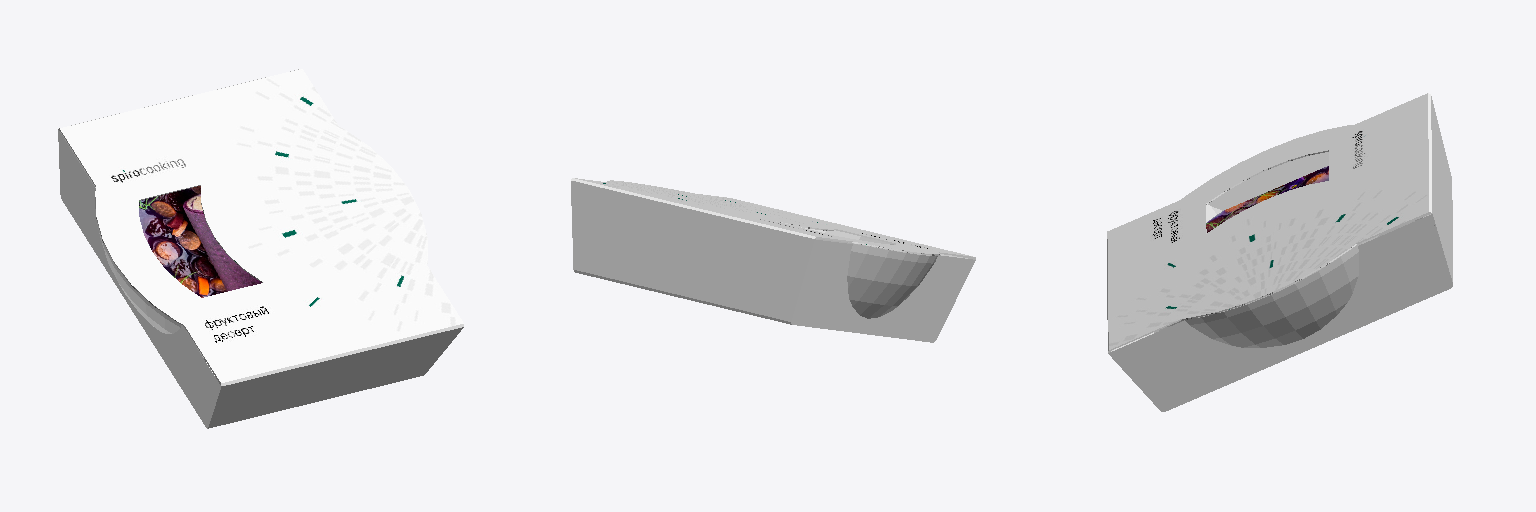
3 renders of one model, left to right at view 1: azimuth 30°, elevation 25°; view 2: azimuth 150°, elevation 25°; view 3: azimuth 270°, elevation 25°, orthographic.
Parts seen in each view (by area): view 1: Cube.4, Cylinder, Sphere; view 2: Cube.4, Sphere; view 3: Cube.4, Sphere, Cylinder.
Boxes of the visible parts, <box> form: Cube.4: <box>58,69,463,428</box>; Cylinder: <box>139,186,261,297</box>; Sphere: <box>97,223,203,357</box>; Cube.4: <box>571,178,975,342</box>; Sphere: <box>816,239,937,318</box>; Cube.4: <box>1107,93,1452,411</box>; Sphere: <box>1154,217,1422,347</box>; Cylinder: <box>1206,166,1328,232</box>.
Bounding box in the file's own units: 250 × 167 × 254.
Materials: 4 (2 with a texture image).